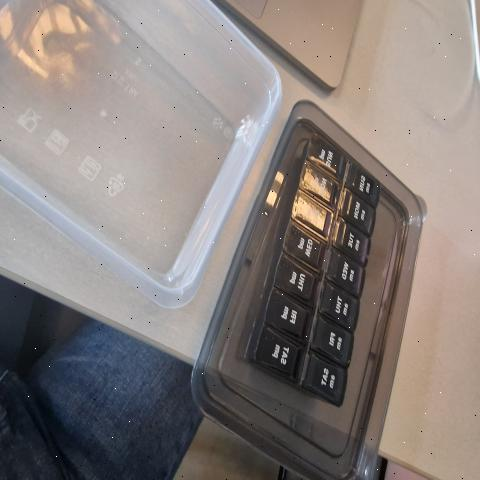PillBox: (222, 125, 388, 416)
